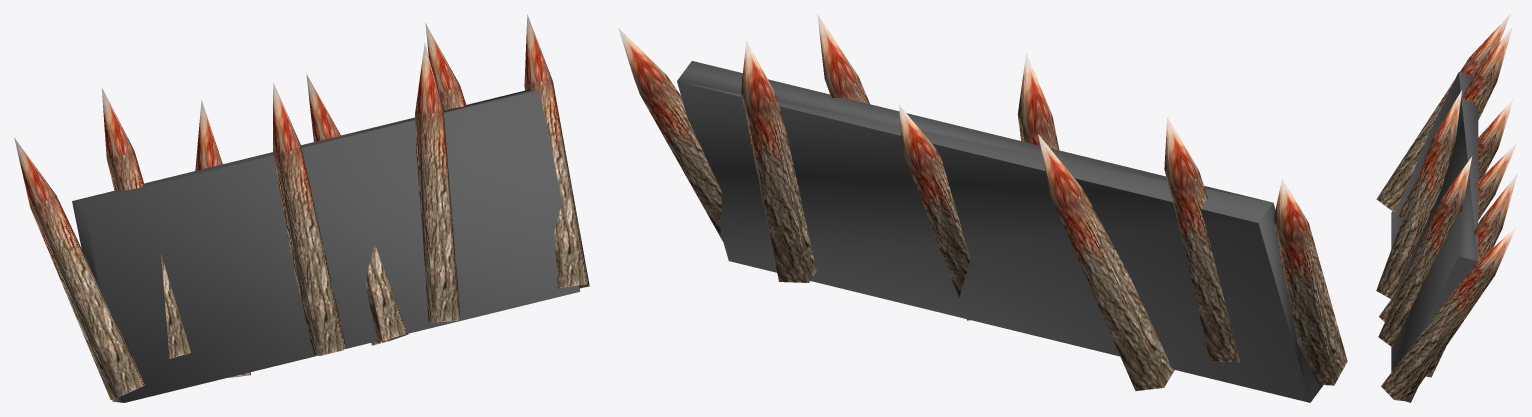
The picture shows the model from 3 angles, left to right: view 1: azimuth 30°, elevation 25°; view 2: azimuth 150°, elevation 25°; view 3: azimuth 270°, elevation 25°; orthographic projection. The views are drawn at different scales.
Parts seen in each view (by area): view 1: Box01, Cylinder03; view 2: Box01, Cylinder03; view 3: Cylinder03, Box01.
Boxes of the visible parts, box(x1,y1,x2,y2) form: Box01: box(72, 90, 580, 402); Cylinder03: box(14, 14, 589, 399); Box01: box(677, 61, 1323, 402); Cylinder03: box(618, 14, 1347, 391); Cylinder03: box(1376, 14, 1517, 401); Box01: box(1391, 72, 1478, 402).
Size of the model in its own units: 94.76 by 46.99 by 26.89.
Materials: 2 (2 with a texture image).
